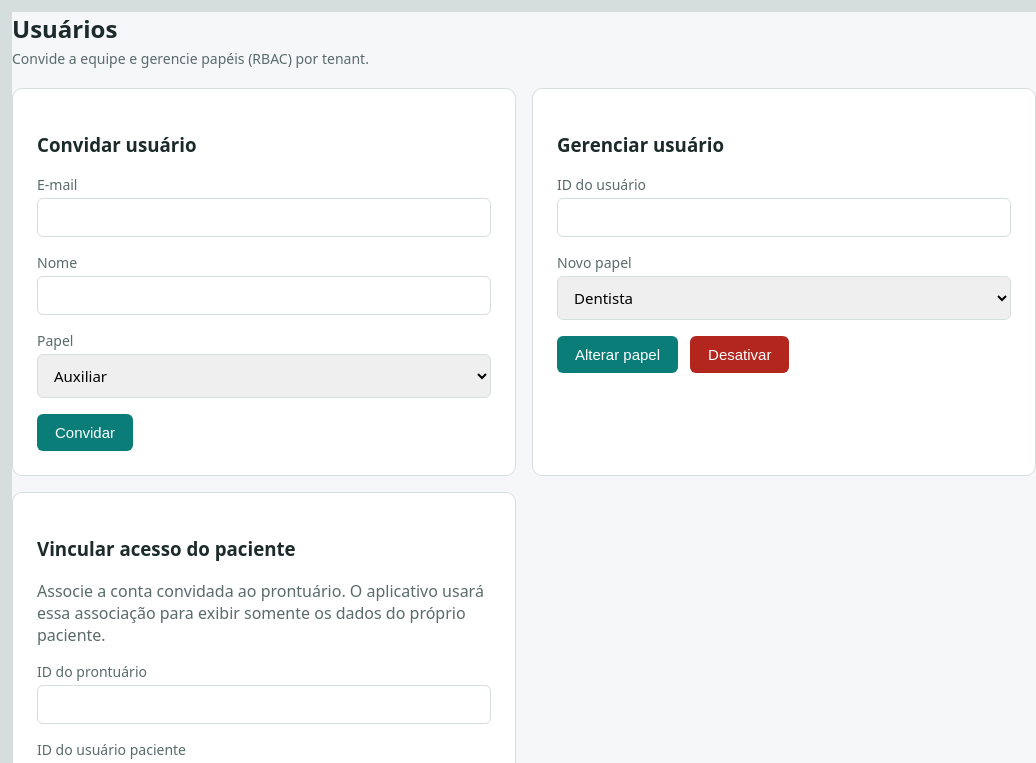
it: UsersPage › mostra erro de permissao ao convidar sem autorizacao
The width and height of the screenshot is (1036, 763).
Type "novo@example.com" into the field labelled "E-mail" at (264, 218), box [37,198,491,237]
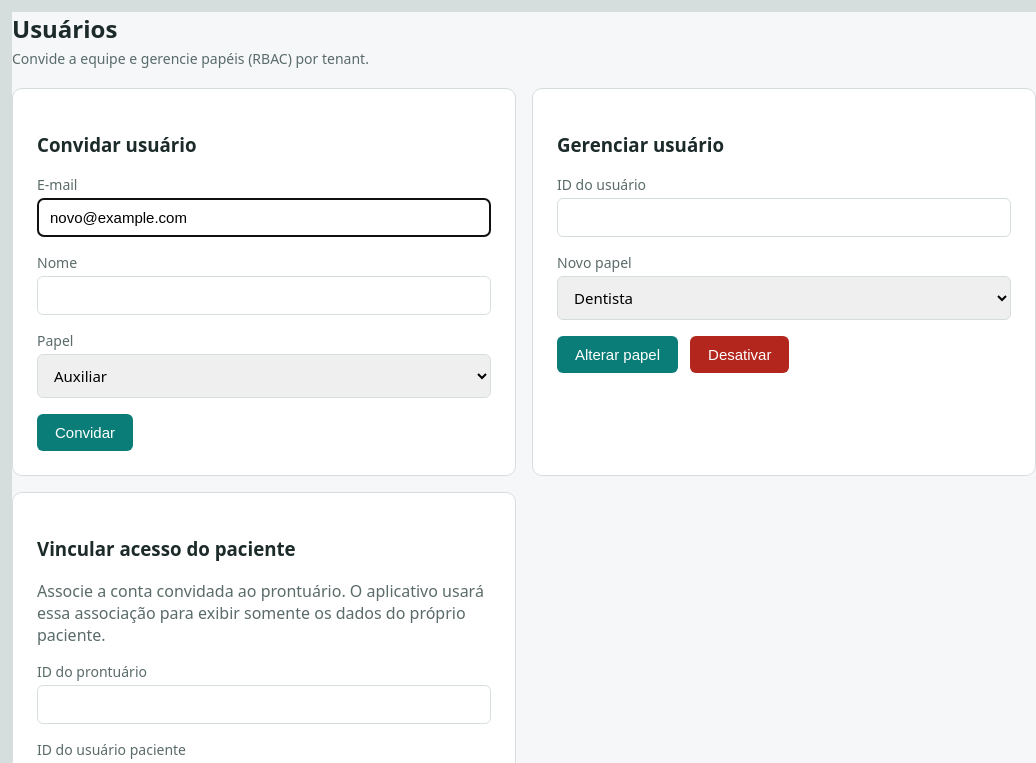
Type "Novo Usuário" into the field labelled "Nome" at (264, 296), box [37,276,491,315]
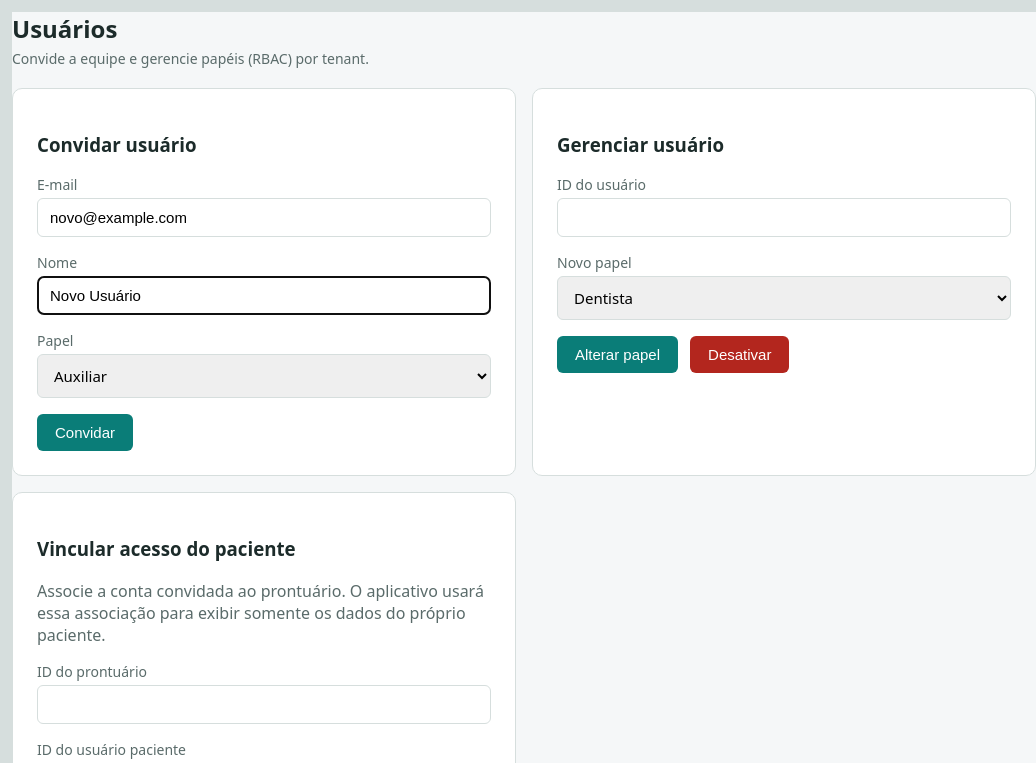
Click the button "Convidar" at (85, 433), box [37,414,133,451]
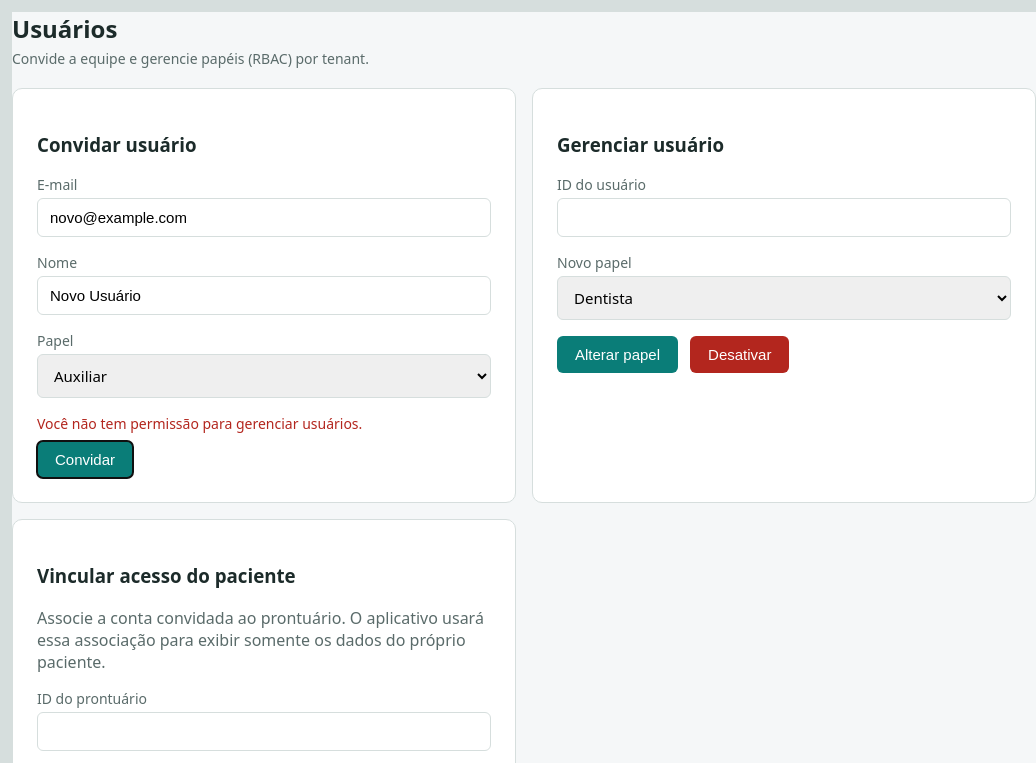
Expected: the text "Você não tem permissão para gerenciar usuários." is shown, [37,414,362,433]
